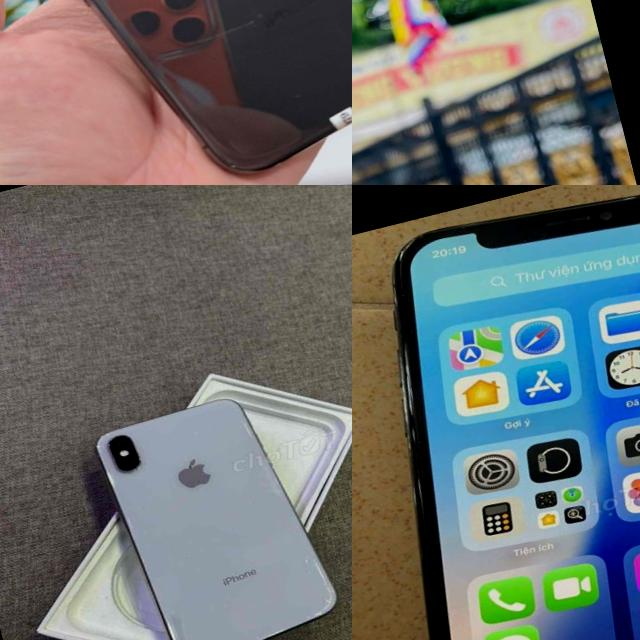scratch: (225, 142, 299, 185), (275, 76, 320, 111)
